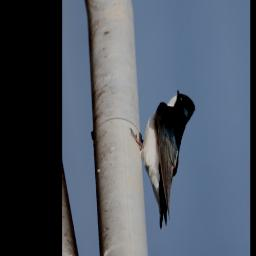Swallow: (126, 87, 209, 232)
